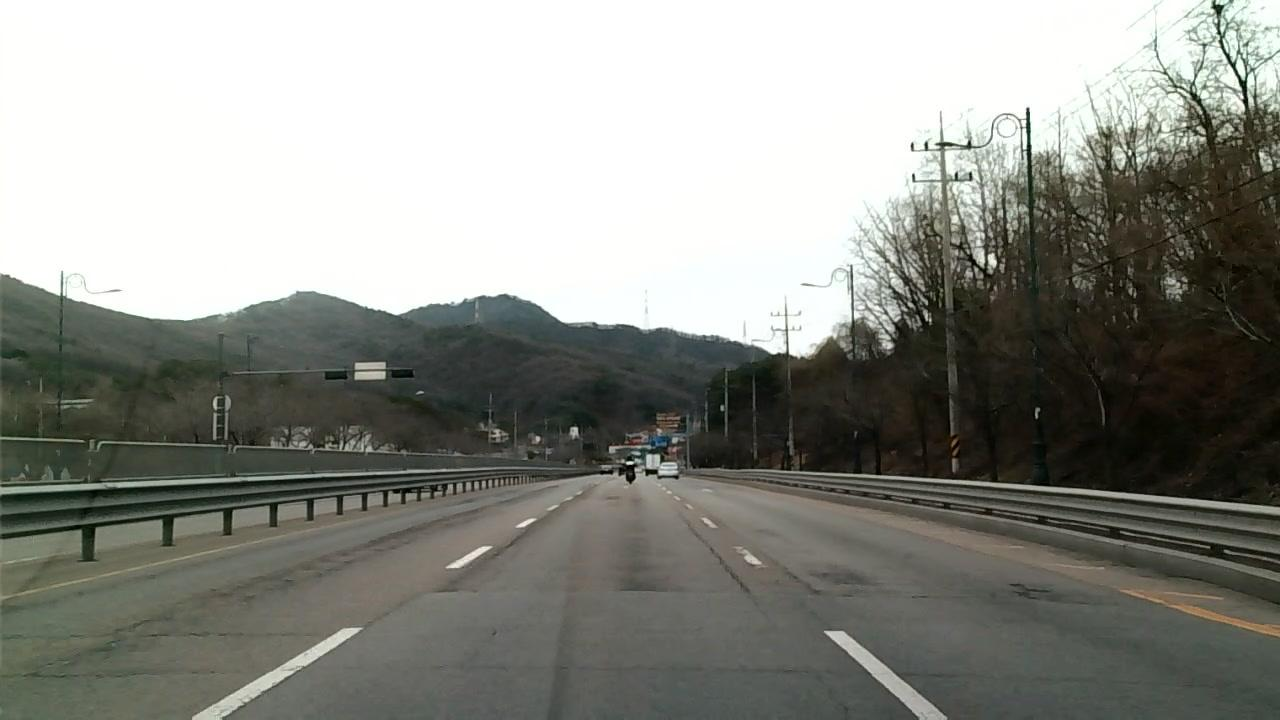banner: (193, 553, 336, 602), (1, 657, 222, 685), (683, 517, 751, 594), (107, 624, 311, 647), (796, 559, 879, 603), (342, 524, 425, 565), (1001, 572, 1056, 605)
